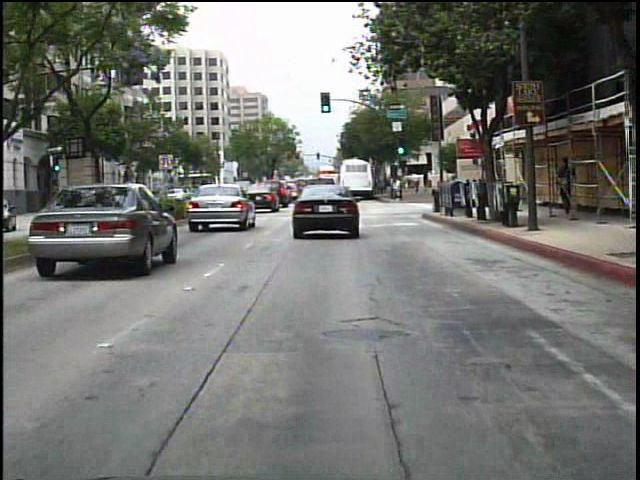person: (550, 155, 581, 222)
